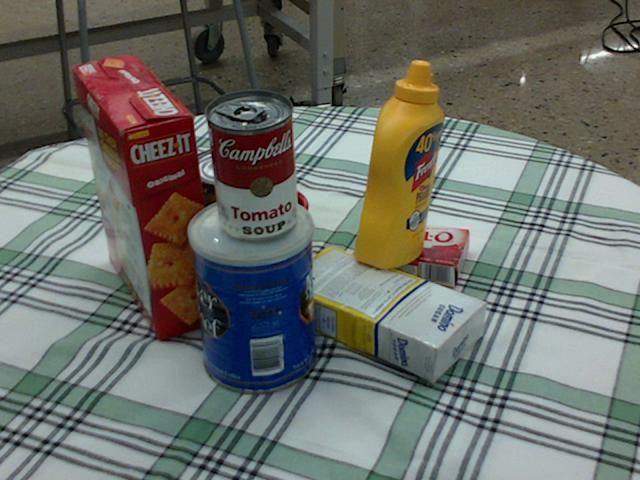cracker_box: (71, 57, 219, 338)
gelatin_box: (369, 219, 468, 288)
master_chef_can: (186, 194, 317, 394)
mug: (202, 183, 307, 293)
mustard_bottle: (354, 60, 443, 268)
potted_meat_can: (161, 165, 280, 255)
sugar_box: (275, 245, 487, 378)
tomato_soup_can: (203, 88, 296, 239)
tuna_fish_can: (187, 146, 269, 212)
